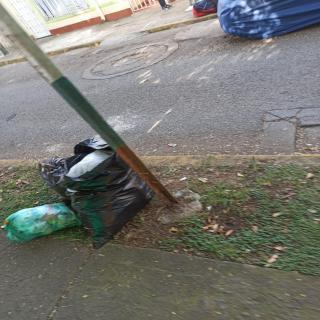Garbage: (39, 138, 163, 247), (3, 201, 78, 241)
